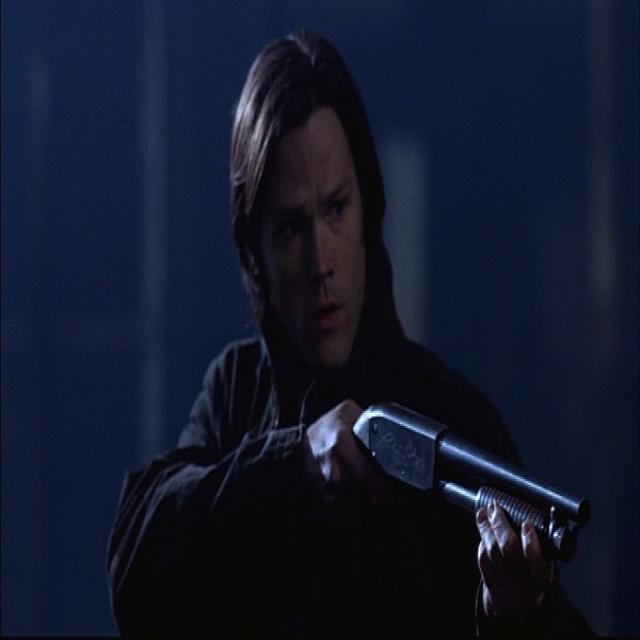rifle: (348, 399, 594, 576)
